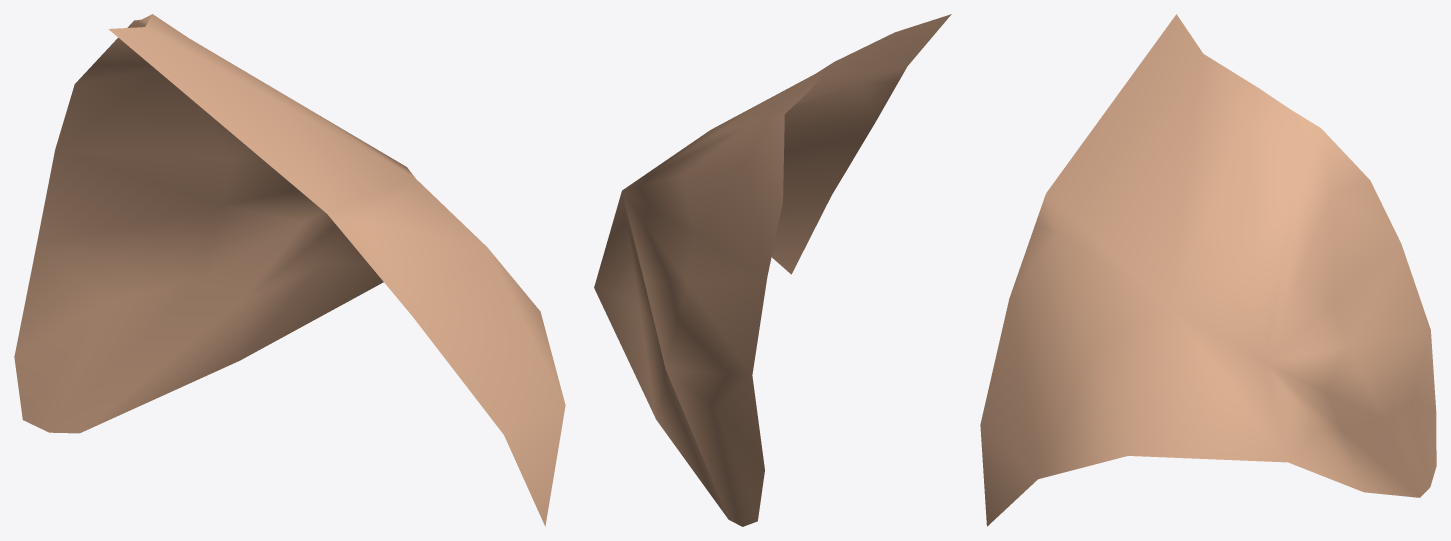
The model's file is triangular-fossa-r.glb.
3 renders of one model, left to right at view 1: azimuth 30°, elevation 25°; view 2: azimuth 150°, elevation 25°; view 3: azimuth 270°, elevation 25°, orthographic. The views are drawn at different scales.
Visible parts, largest first — view 1: Triangular fossa.r; view 2: Triangular fossa.r; view 3: Triangular fossa.r.
Part boxes in pixels (x1,y1,x2,y2): Triangular fossa.r: (14,14,565,526); Triangular fossa.r: (594,14,951,526); Triangular fossa.r: (980,14,1436,526).
Bounding box in the file's own units: 0.00671 × 0.00872 × 0.00828.
